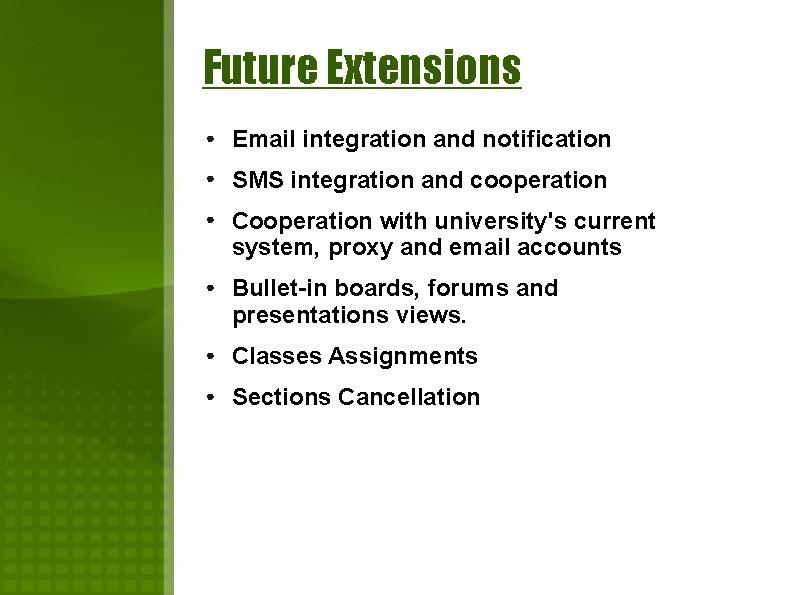paragraph: (196, 118, 681, 417)
title: (192, 42, 541, 96)
